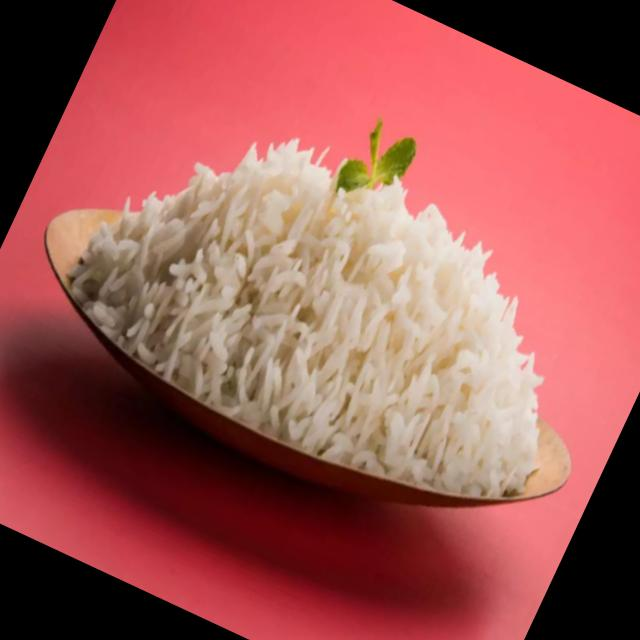rice: (71, 141, 546, 490)
